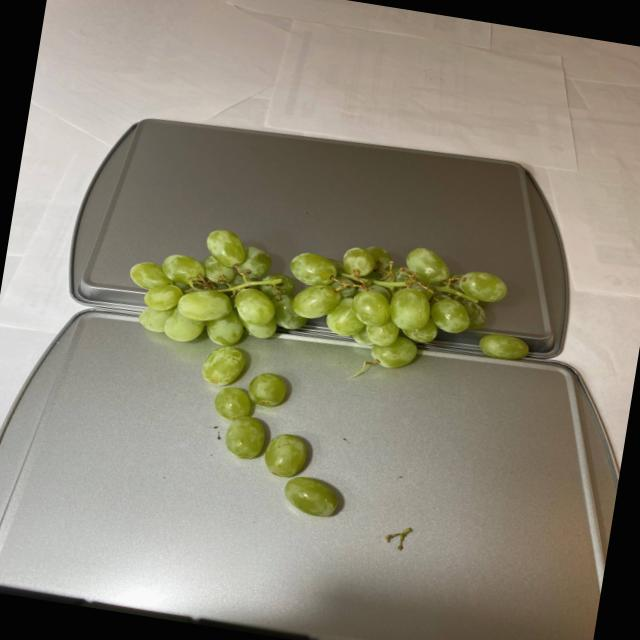grapes: (96, 200, 546, 544)
